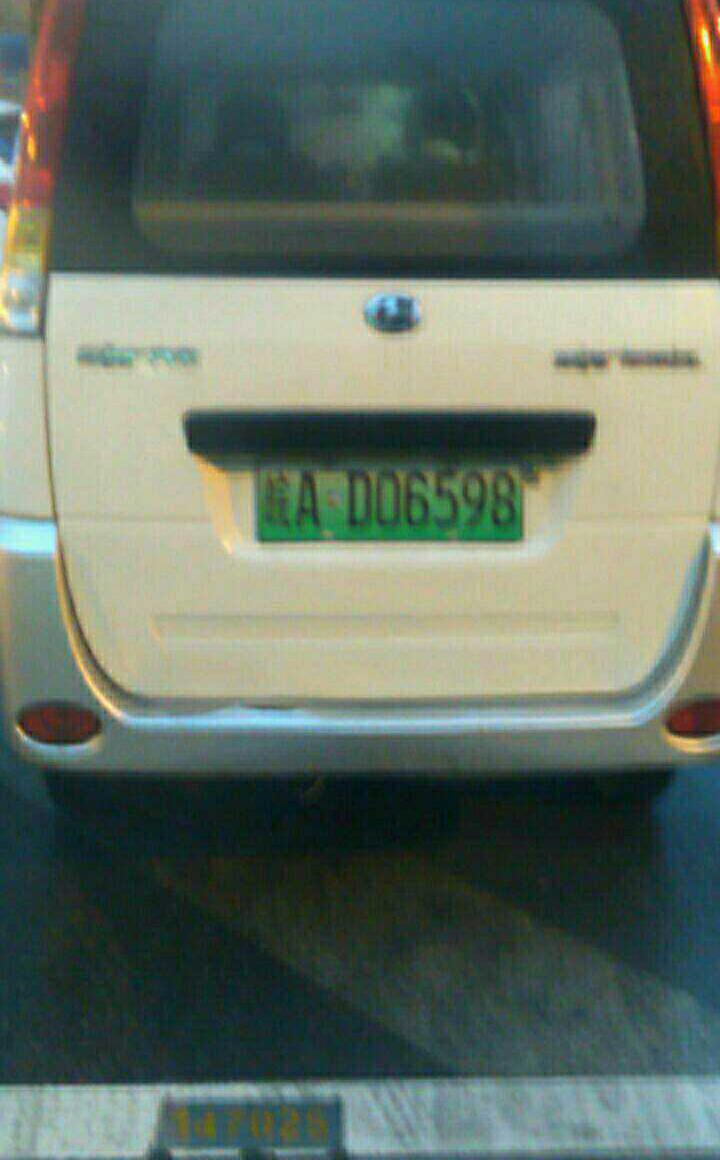car: (231, 462, 537, 543)
